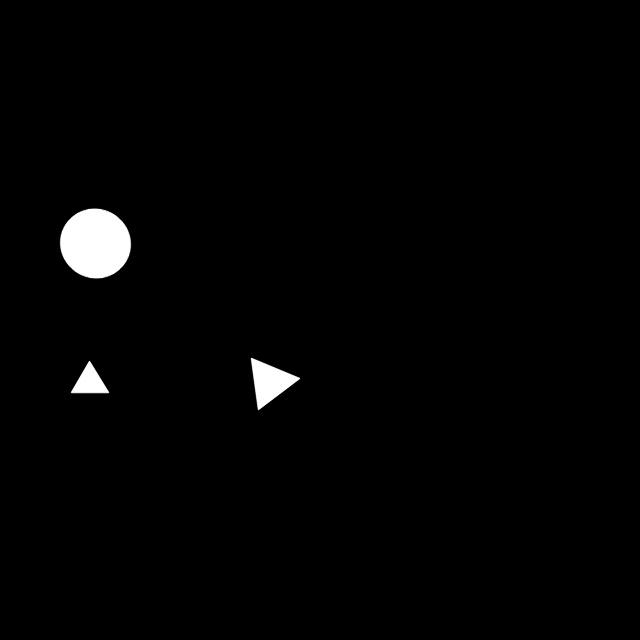Circle: (54, 201, 142, 291)
Triangle: (240, 343, 313, 423), (54, 346, 119, 416)
